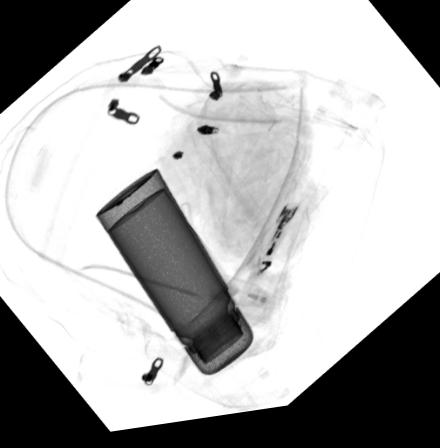Lighter: (247, 209, 299, 286)
